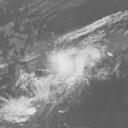cyclone: (5, 43, 108, 125)
